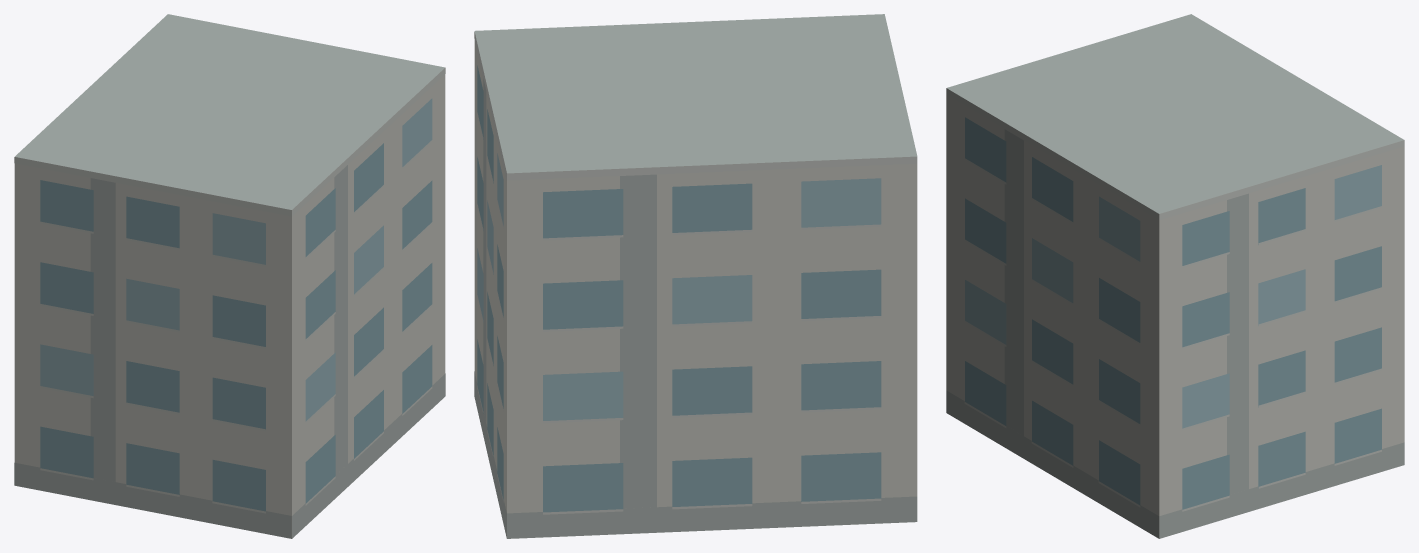
File: residential-2cad19cd-6c5f-4716-b26f-29025bc7db00.glb
The picture shows the model from 3 angles, left to right: view 1: azimuth 30°, elevation 25°; view 2: azimuth 150°, elevation 25°; view 3: azimuth 270°, elevation 25°; orthographic projection. The views are drawn at different scales.
Parts seen in each view (by area): view 1: residential-2cad19cd-6c5f-4716-b26f-29025bc7db00.tmp; view 2: residential-2cad19cd-6c5f-4716-b26f-29025bc7db00.tmp; view 3: residential-2cad19cd-6c5f-4716-b26f-29025bc7db00.tmp.
Boxes of the visible parts, left/top/right/bottom form: residential-2cad19cd-6c5f-4716-b26f-29025bc7db00.tmp: left=14, top=14, right=445, bottom=538; residential-2cad19cd-6c5f-4716-b26f-29025bc7db00.tmp: left=474, top=14, right=917, bottom=538; residential-2cad19cd-6c5f-4716-b26f-29025bc7db00.tmp: left=946, top=14, right=1404, bottom=538.
Bounding box in the file's own units: 16.11 × 12.2 × 15.61.
